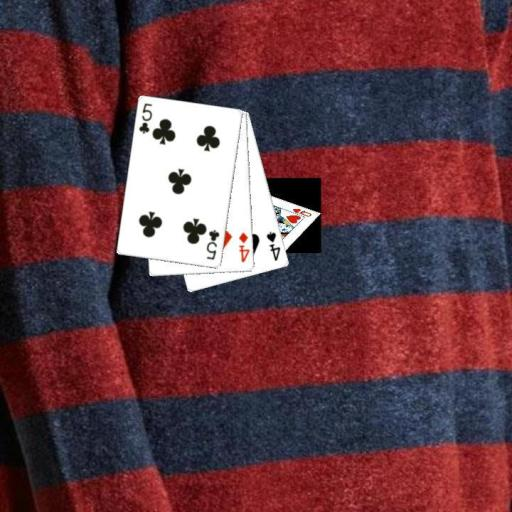4D: (236, 230, 251, 264)
4S: (263, 229, 282, 262)
5C: (204, 227, 222, 262), (136, 100, 154, 135)
